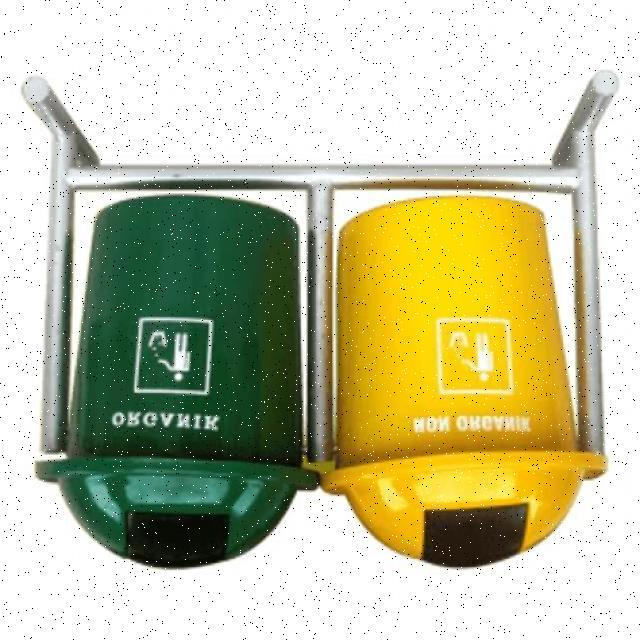garbage container: (35, 156, 318, 590), (336, 174, 600, 594)
